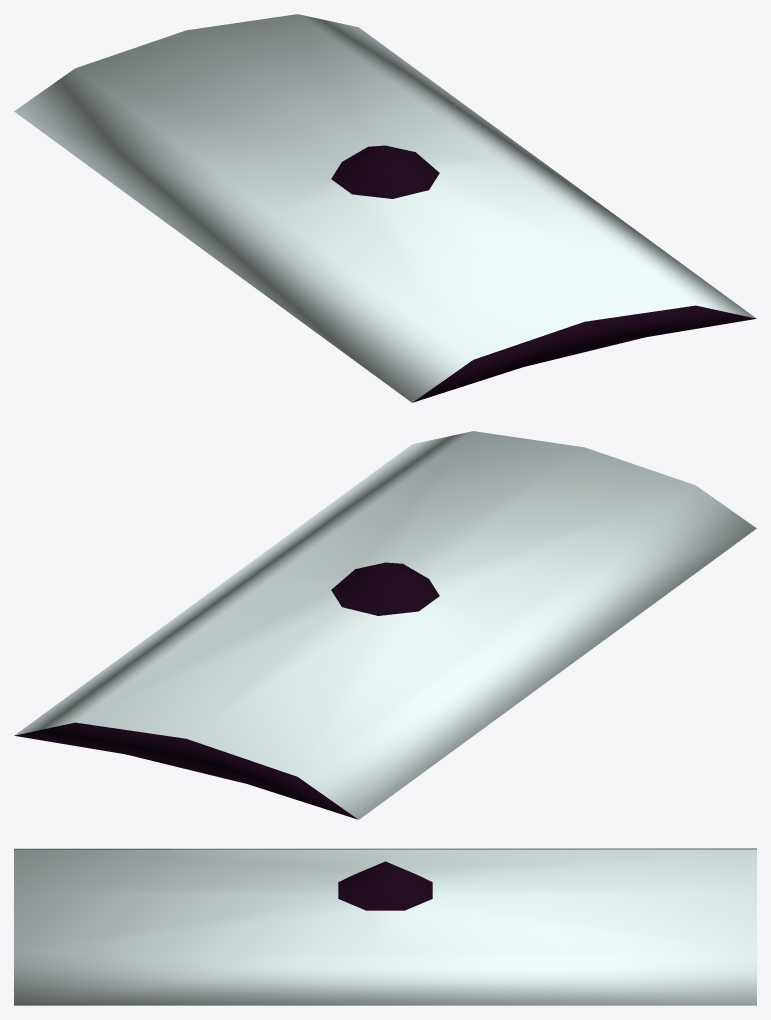
File: Shild 2.fbx
3 renders of one model, top to bottom at view 1: azimuth 30°, elevation 25°; view 2: azimuth 150°, elevation 25°; view 3: azimuth 270°, elevation 25°, orthographic. The views are drawn at different scales.
Parts seen in each view (by area): view 1: Shild_2; view 2: Shild_2; view 3: Shild_2.
Boxes of the visible parts, bbox=[...] form: Shild_2: bbox=[14, 14, 756, 402]; Shild_2: bbox=[14, 431, 756, 819]; Shild_2: bbox=[14, 848, 756, 1005].
Bounding box in the file's own units: 0.9239 × 0.1782 × 1.85.
3 materials, 3 textured.
